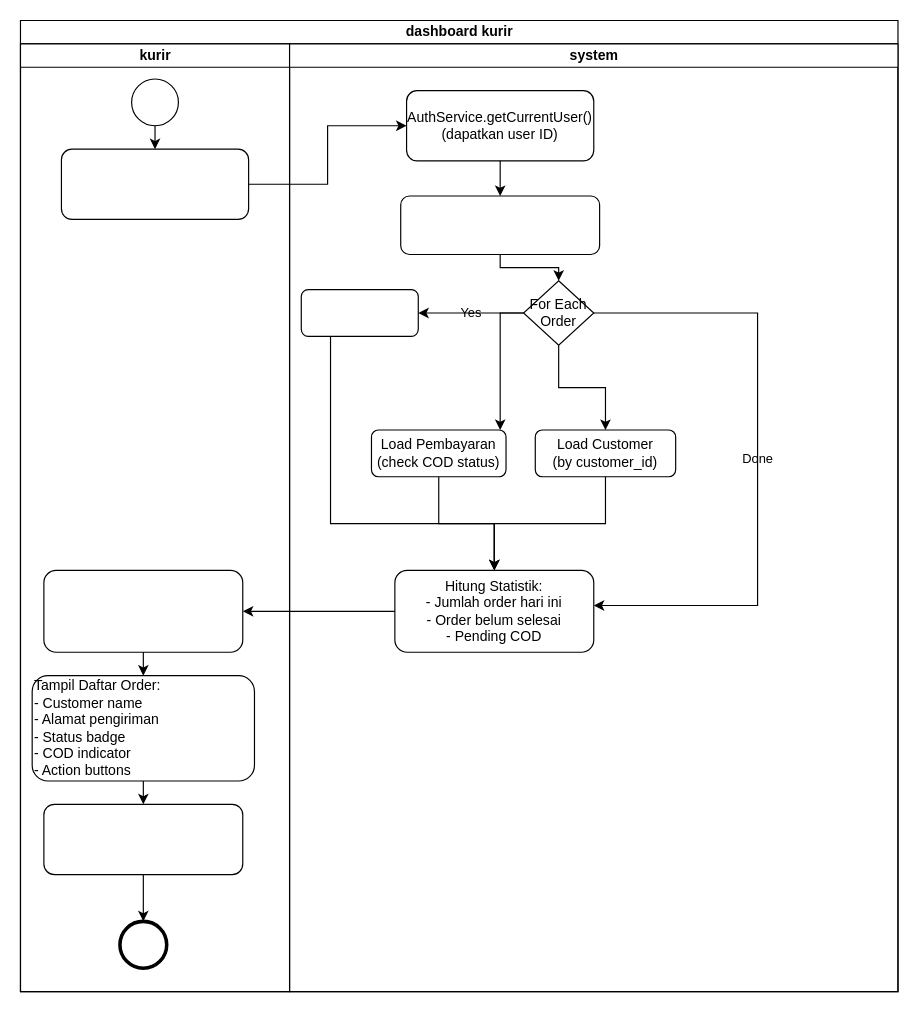
Some shapes in this 918 by 1012 pixel diagram are drawn without their labels. The box of each missing label's shape, as (x1, y1, x2, y2) in pixels:
Load Transaksi (by transaksi_id): (300, 288, 418, 336)
Login berhasil sebagai Kurir: (60, 148, 249, 219)
OrderKurirService .getOrderKurirByKurirId() (load order yang di-assign): (400, 195, 600, 254)
Tampil Menu Navigasi: Mobile: Bottom Nav Desktop: Sidebar: (43, 803, 243, 875)
Tampil Stats Card: - Active Deliveries - Completed Today (on mobile/desktop): (43, 569, 243, 652)
